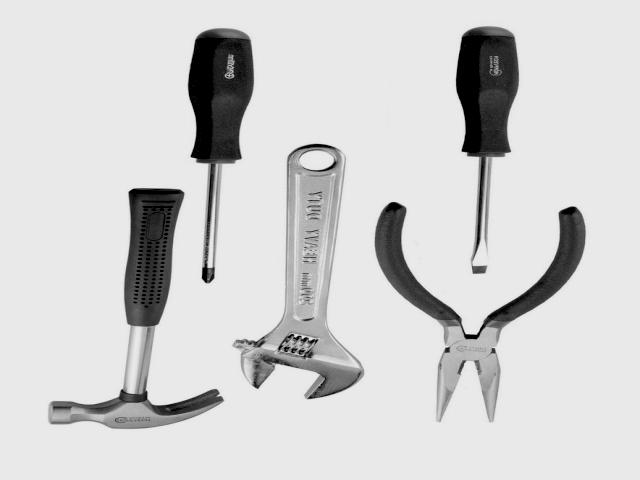Adjustable spanner: (234, 144, 363, 398)
Hammer: (49, 188, 222, 428)
Needle-nose pliers: (375, 202, 585, 422)
Screwdriver: (188, 29, 253, 283), (456, 27, 519, 274)
